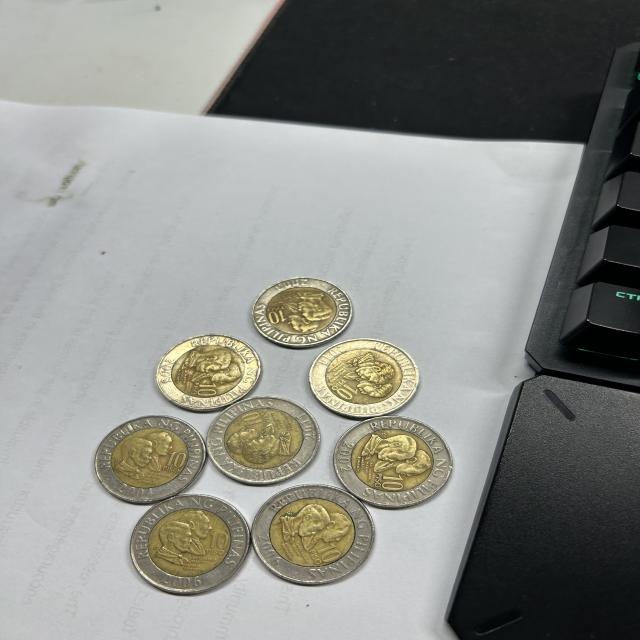10_Old_Front: (379, 472, 406, 492), (317, 543, 341, 561), (209, 533, 233, 551), (165, 451, 188, 468), (240, 410, 262, 427), (335, 382, 358, 397), (268, 308, 289, 324), (198, 382, 216, 398)
